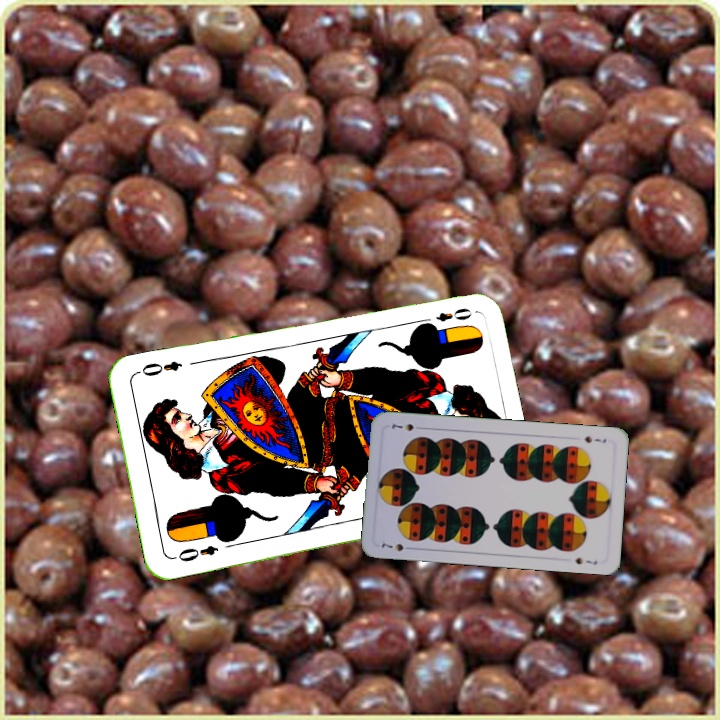EO: (417, 303, 475, 329), (169, 541, 221, 564)
S7: (377, 539, 416, 554), (580, 432, 609, 446)
